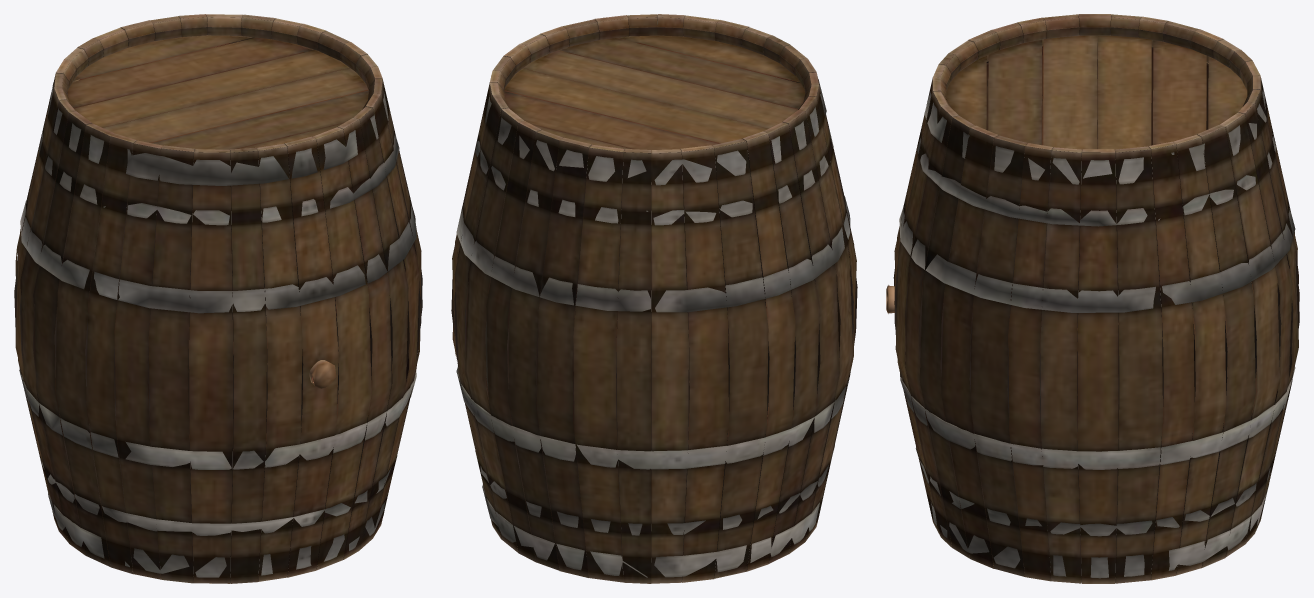
The model's file is wine_barrel.glb.
The picture shows the model from 3 angles, left to right: view 1: azimuth 30°, elevation 25°; view 2: azimuth 150°, elevation 25°; view 3: azimuth 270°, elevation 25°; orthographic projection.
Visible parts, largest first — view 1: wine_barrel_01, wine_barrel_01_Lid, wine_barrel_01_bung; view 2: wine_barrel_01, wine_barrel_01_Lid; view 3: wine_barrel_01, wine_barrel_01_Lid.
Part boxes in pixels (box(x1,y1,x2,y2)): wine_barrel_01: box(14, 14, 422, 583); wine_barrel_01_Lid: box(67, 35, 368, 149); wine_barrel_01_bung: box(309, 360, 336, 388); wine_barrel_01: box(451, 14, 857, 583); wine_barrel_01_Lid: box(504, 35, 805, 152); wine_barrel_01: box(893, 14, 1299, 583); wine_barrel_01_Lid: box(946, 35, 1247, 149).
Bounding box in the file's own units: 0.742 × 0.8703 × 0.7559.
Materials: 1 (1 with a texture image).
